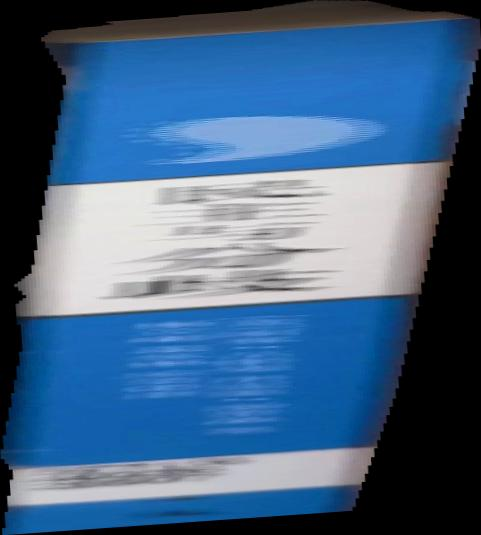book: (1, 1, 481, 535)
